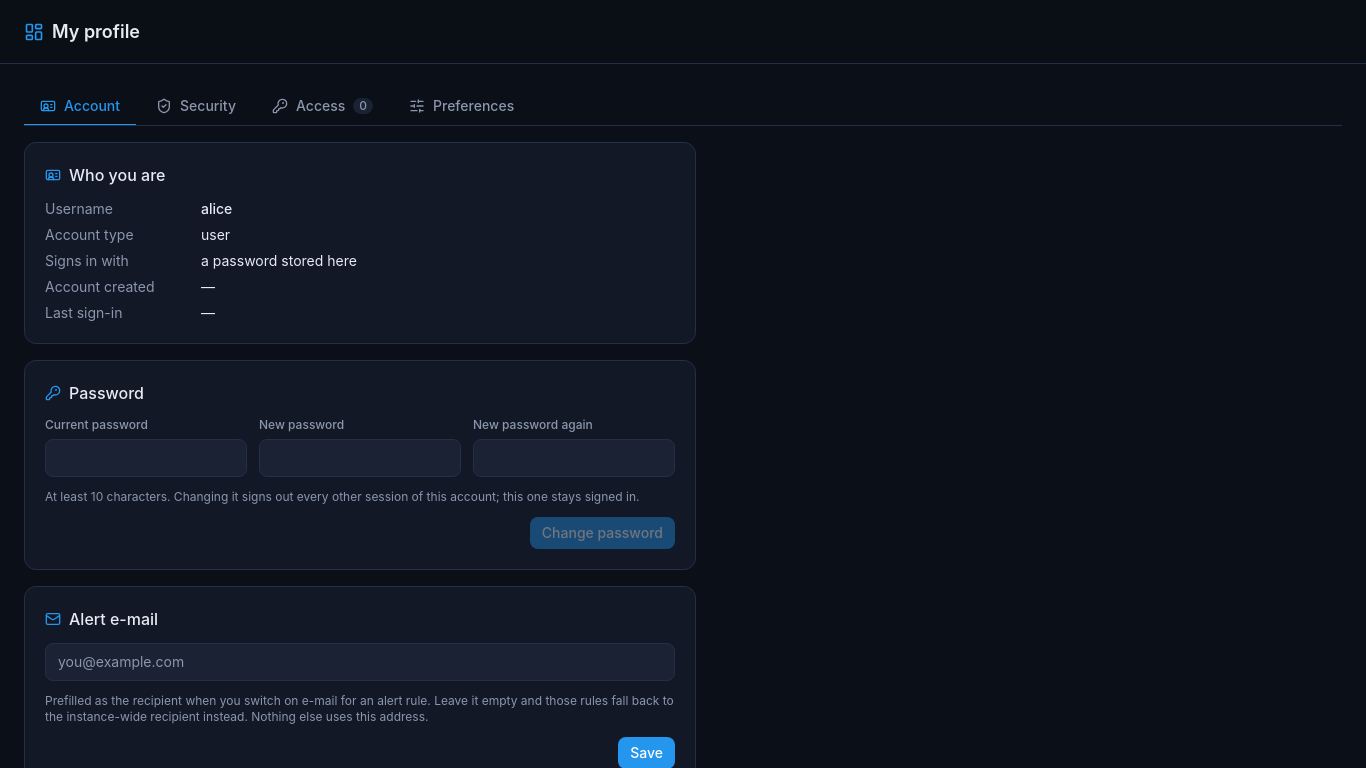
Test: Profile → Security → signed-in sessions › lists every session and marks the one you are using
The width and height of the screenshot is (1366, 768).
Click the button "Security" at (196, 107), box top-left (140, 88), bottom-right (252, 126)
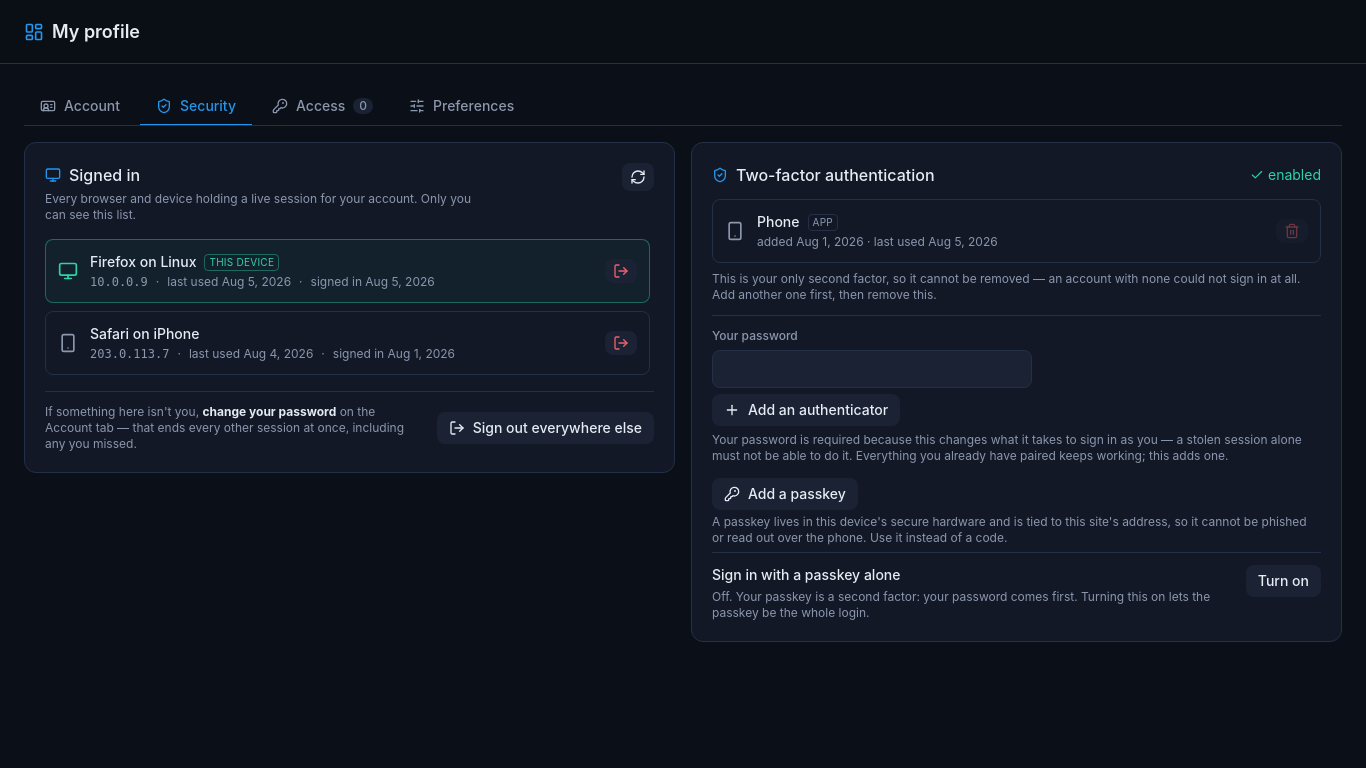
expect the text "Firefox on Linux" is shown: met, box top-left (90, 252), bottom-right (196, 272)
expect the text "Safari on iPhone" is shown: met, box top-left (90, 324), bottom-right (200, 344)
expect the text "203.0.113.7" is shown: met, box top-left (90, 346), bottom-right (170, 362)
